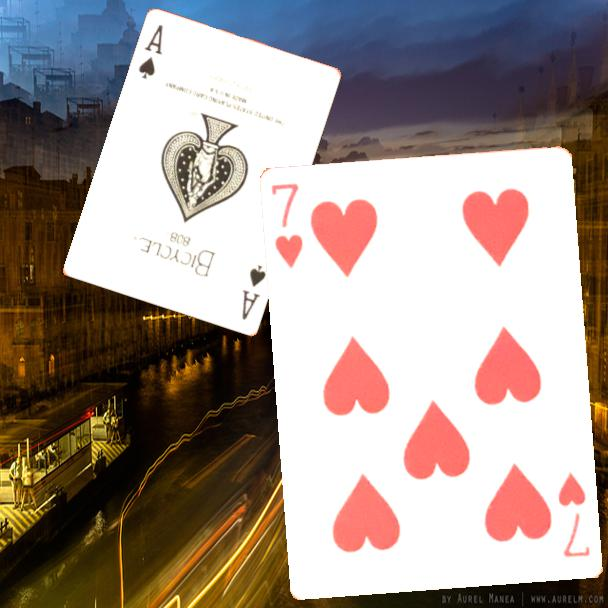h07: (555, 470, 594, 560), (268, 180, 306, 272)
s01: (238, 262, 269, 323), (135, 22, 166, 82)
